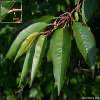Cherry leaf: (3, 22, 48, 63), (73, 18, 98, 79), (51, 26, 72, 98), (28, 33, 49, 90), (13, 29, 42, 65), (25, 14, 56, 35)
